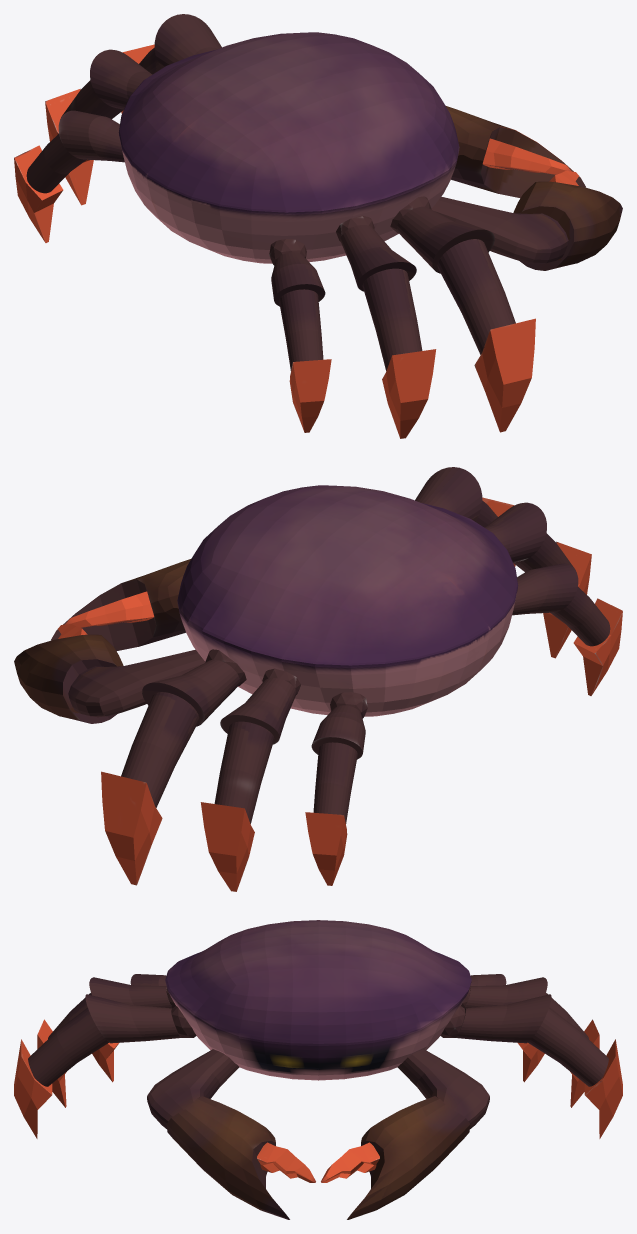
File: cangrejo.fbx
3 views of the same model, one above another, from view 1: azimuth 30°, elevation 25°; view 2: azimuth 150°, elevation 25°; view 3: azimuth 270°, elevation 25° (orthographic). The views are drawn at different scales.
Visible parts, largest first — view 1: Cangrejo; view 2: Cangrejo; view 3: Cangrejo.
Part boxes in pixels (x1,y1,x2,y2): Cangrejo: (14,14,622,438); Cangrejo: (14,467,622,891); Cangrejo: (14,920,622,1219).
Bounding box in the file's own units: 127 × 64.43 × 185.
